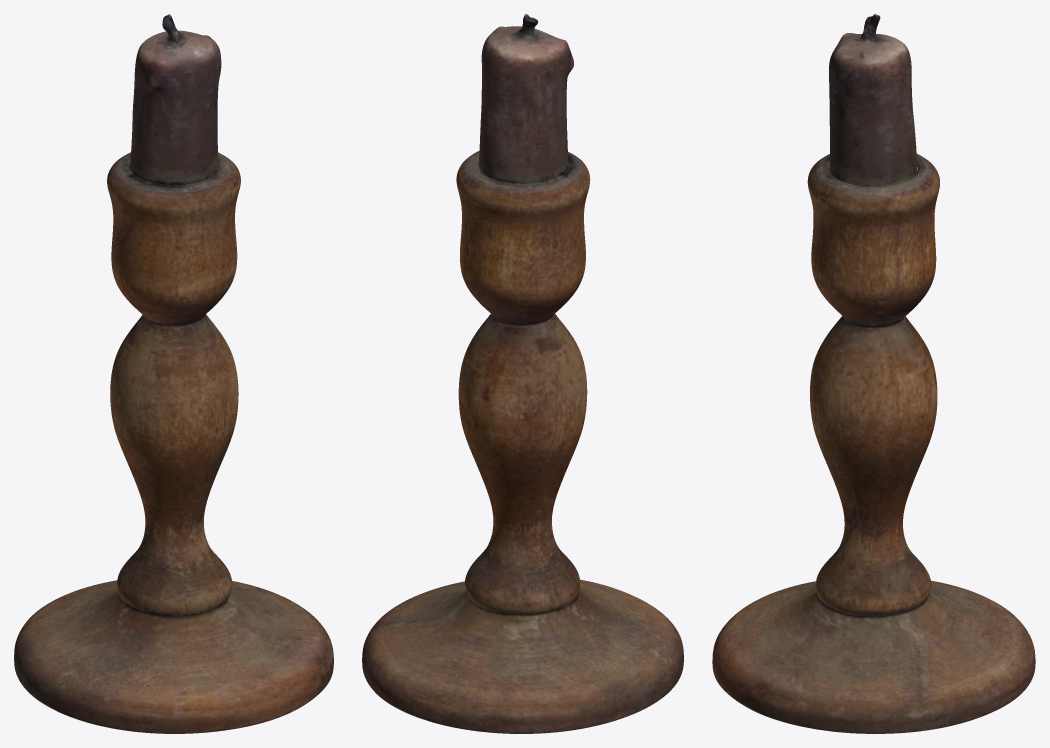
Rendered from wooden_candlestick.glb.
The picture shows the model from 3 angles, left to right: view 1: azimuth 30°, elevation 25°; view 2: azimuth 150°, elevation 25°; view 3: azimuth 270°, elevation 25°; orthographic projection.
Visible parts, largest first — view 1: wooden_candlestick; view 2: wooden_candlestick; view 3: wooden_candlestick.
Part boxes in pixels (x1,y1,x2,y2): wooden_candlestick: (14, 14, 333, 733); wooden_candlestick: (362, 14, 683, 733); wooden_candlestick: (712, 14, 1035, 733).
Bounding box in the file's own units: 0.0972 × 0.2197 × 0.0987.
1 material, 1 textured.
